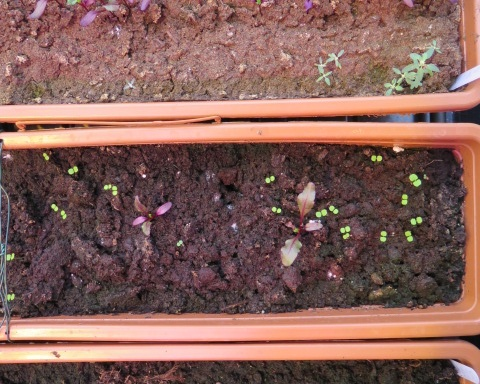crop: (280, 182, 323, 268), (127, 193, 173, 238)
weed: (409, 50, 441, 74), (390, 66, 412, 82), (424, 38, 441, 57), (329, 49, 345, 69), (406, 171, 423, 189), (384, 79, 403, 94), (317, 68, 332, 85), (312, 57, 329, 71), (407, 215, 424, 226), (398, 192, 410, 207), (122, 78, 137, 90), (403, 229, 414, 243), (379, 229, 389, 244), (314, 208, 329, 218), (67, 164, 80, 175), (327, 204, 339, 215), (40, 150, 51, 162), (263, 173, 276, 183), (368, 154, 384, 162), (268, 205, 282, 214), (5, 252, 17, 262), (48, 202, 59, 212), (59, 208, 68, 220), (341, 233, 352, 241), (339, 226, 351, 232), (7, 292, 15, 301), (112, 186, 119, 195), (103, 183, 112, 189), (176, 240, 183, 246)
